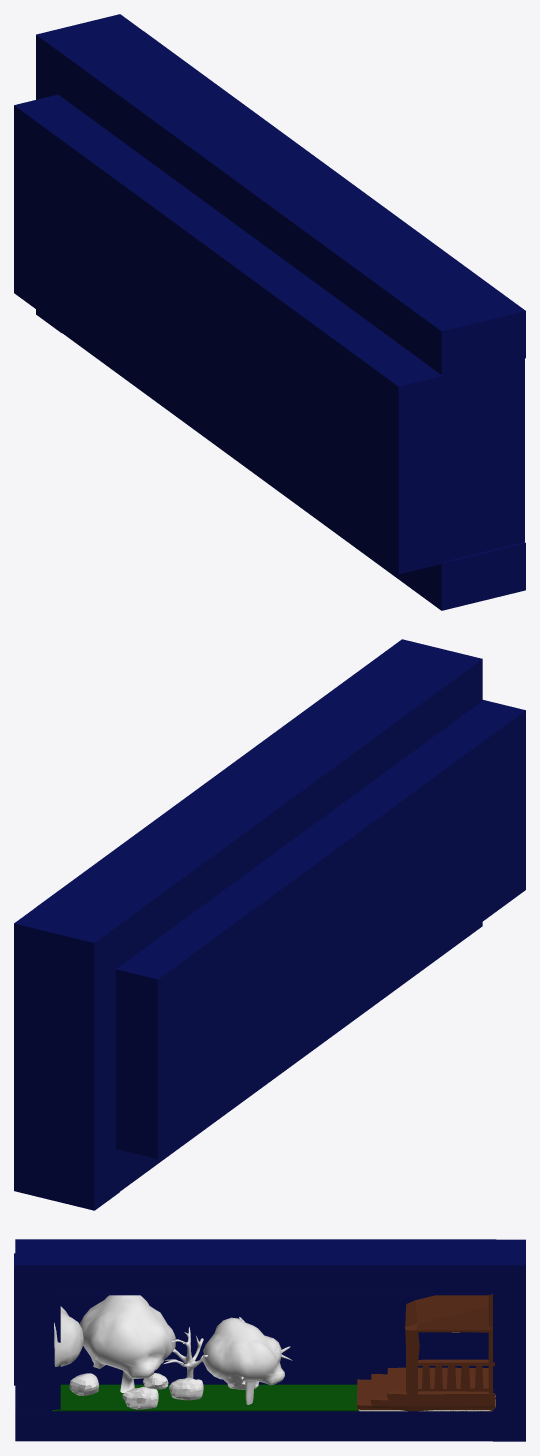
File: escena 2.fbx
The picture shows the model from 3 angles, top to bottom: view 1: azimuth 30°, elevation 25°; view 2: azimuth 150°, elevation 25°; view 3: azimuth 270°, elevation 25°; orthographic projection. The views are drawn at different scales.
Parts seen in each view (by area): view 1: Cube.005, Cube.007, Cube.003, Cube.004, Cube.006; view 2: Cube.005, Cube.007, Cube.006, Cube.004; view 3: Cube.007, Cube.005, Cube, Cube.004, Cube.006, ZBrush_defualt_group, Cube.003, ZBrush_defualt_group.002, ZBrush_defualt_group.001, Sphere.002, Sphere, tree.001 (+3 smaller).
Boxes of the visible parts, x1,y1,x2,y2 form: Cube.005: [14, 94, 443, 574]; Cube.007: [59, 31, 525, 377]; Cube.003: [443, 358, 524, 561]; Cube.004: [59, 327, 525, 610]; Cube.006: [36, 14, 143, 332]; Cube.005: [116, 700, 525, 1158]; Cube.007: [37, 639, 482, 965]; Cube.006: [14, 907, 119, 1210]; Cube.004: [117, 922, 482, 1192]; Cube.007: [15, 1239, 496, 1294]; Cube.005: [14, 1253, 488, 1385]; Cube: [52, 1293, 495, 1411]; Cube.004: [15, 1385, 496, 1441]; Cube.006: [493, 1239, 525, 1441]; ZBrush_defualt_group: [80, 1295, 175, 1378]; Cube.003: [16, 1293, 60, 1410]; ZBrush_defualt_group.002: [202, 1317, 284, 1386]; ZBrush_defualt_group.001: [54, 1306, 83, 1366]; Sphere.002: [122, 1386, 158, 1409]; Sphere: [169, 1377, 203, 1400]; tree.001: [164, 1327, 203, 1378].
Size of the model in its own units: 750 by 1183 by 3117.
